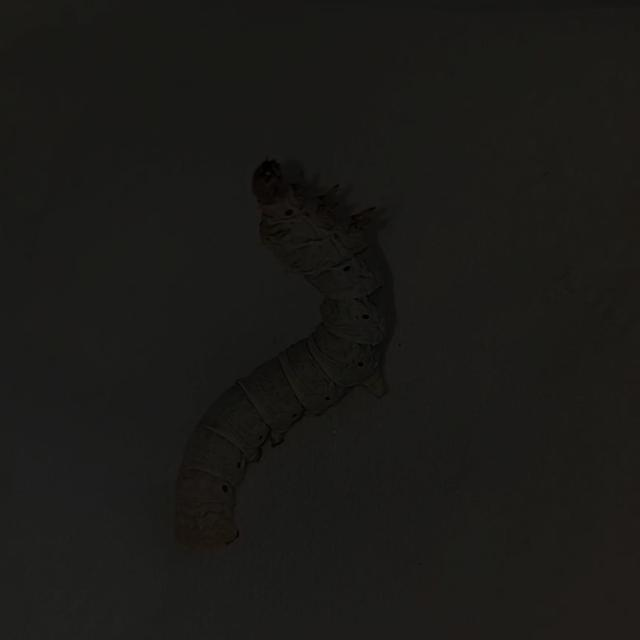Healthy: (134, 116, 440, 578)
